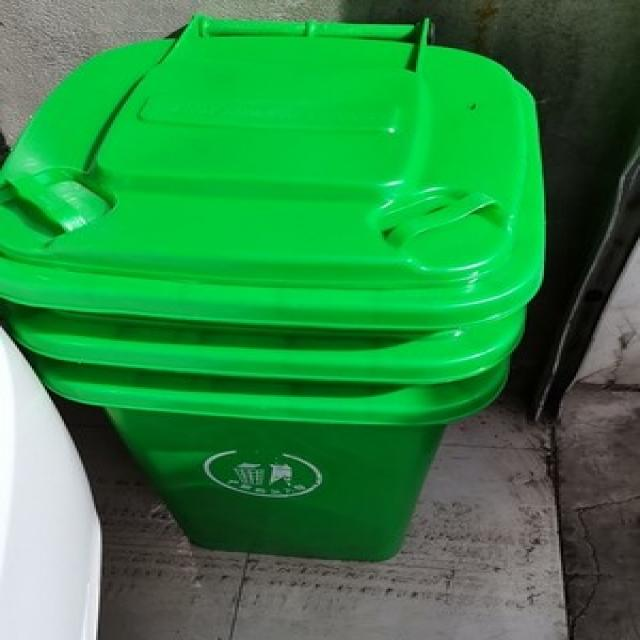ash bin: (6, 12, 548, 562)
